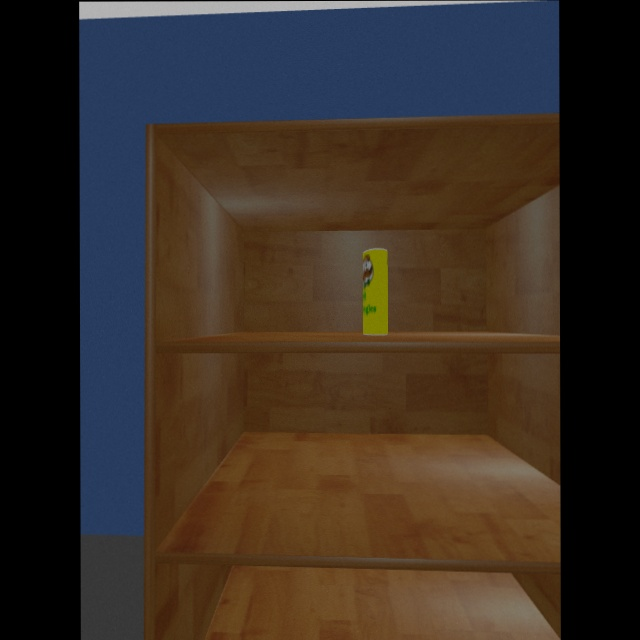chipsdose_gelb: (362, 248, 389, 336)
